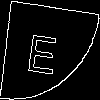E: (25, 25, 61, 75)
